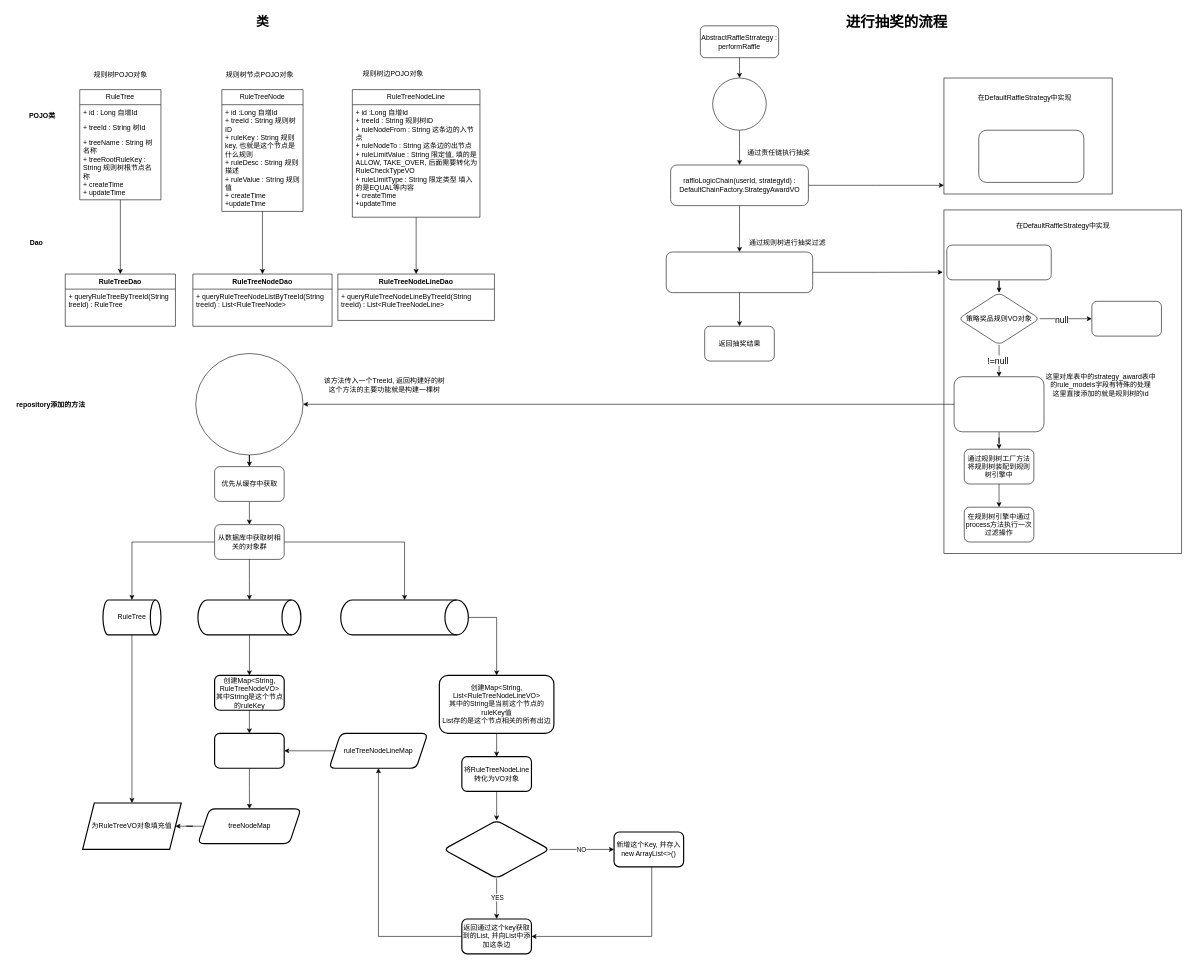
Image size: 1192x964. Some labels were removed from this diagram. Each missing label, with the centre of its shape:
List<RuleTreeNode>: point (249, 617)
list<RuleTreeNodeLine>: point (404, 617)
Map中存在当前节点的ruleKey 作为MapKey: point (496, 849)
queryRuleTreeVOByTreeId(String TreeId) : RuleTreeVO: point (249, 404)
raffleLogicTree(userId, strategyId, awardId) DefaultChainFatory.StrategyAwardVO: point (739, 272)
从责任链工厂中获取openLogicChain并执行logic从而返回StrategyAwardVO: point (1031, 156)
对于每个节点, 向Map中put: point (249, 750)
已经通过repository获取到了userId和strategyId: point (739, 103)
直接返回原奖品: point (1126, 318)
通过strategyId和awardId查询到对应的奖品规则VO对象: point (998, 262)
通过规则树Id从repository的queryRuleTreeVOByTreeId方法, 获取RuleTreeVO对象: point (999, 404)
